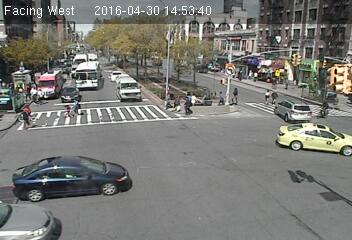neg: (233, 158, 261, 195), (279, 156, 306, 193), (196, 198, 221, 231), (153, 168, 177, 200), (47, 129, 69, 159), (182, 125, 202, 151), (128, 2, 145, 26), (98, 169, 115, 193), (275, 65, 292, 88), (260, 85, 276, 107), (317, 98, 333, 120), (122, 93, 138, 115), (139, 63, 155, 84), (302, 23, 318, 44), (124, 137, 140, 158), (45, 165, 60, 186), (62, 46, 77, 66), (270, 89, 283, 107), (174, 63, 187, 81), (191, 43, 204, 61), (322, 132, 334, 149), (317, 73, 328, 88), (231, 11, 242, 25), (98, 132, 108, 144)
pos: (17, 102, 35, 125), (180, 95, 196, 117), (215, 88, 229, 107), (167, 92, 181, 110), (20, 83, 34, 101), (230, 86, 243, 105), (72, 98, 83, 113)
